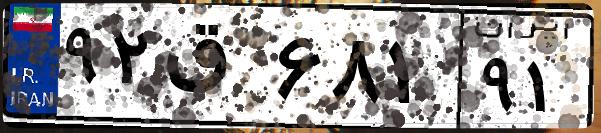1: (385, 28, 445, 110), (525, 38, 570, 115)
2: (110, 28, 158, 98)
6: (270, 28, 330, 110)
8: (330, 28, 385, 110)
9: (57, 26, 110, 100), (475, 38, 525, 113)
ق: (158, 20, 270, 120)
